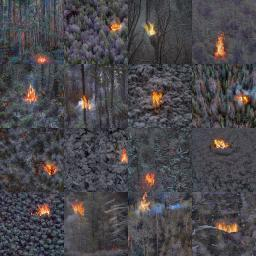Small fire: (211, 35, 232, 60), (215, 219, 241, 235), (34, 201, 55, 219), (212, 137, 233, 153), (77, 95, 95, 111), (70, 200, 86, 218), (23, 87, 39, 104), (143, 22, 159, 39), (117, 147, 132, 165), (135, 194, 150, 212), (148, 91, 164, 107), (42, 160, 58, 176), (142, 172, 157, 187), (34, 52, 50, 66), (108, 19, 125, 32), (235, 94, 251, 107)
